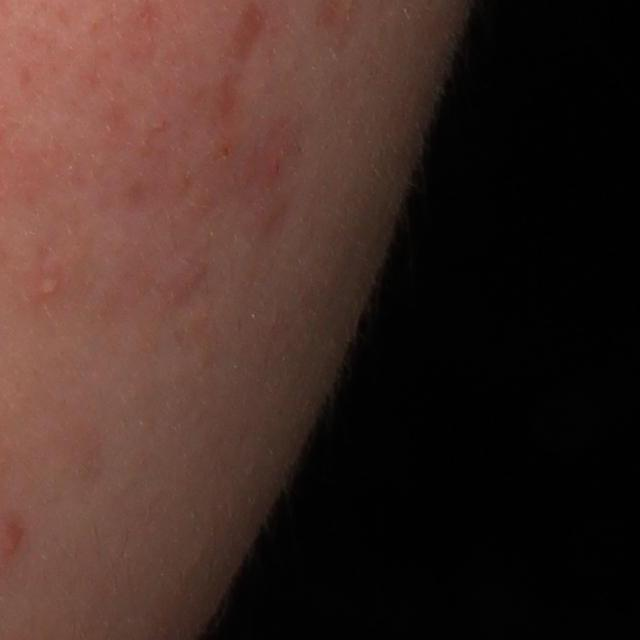pustule: (35, 268, 64, 304)
